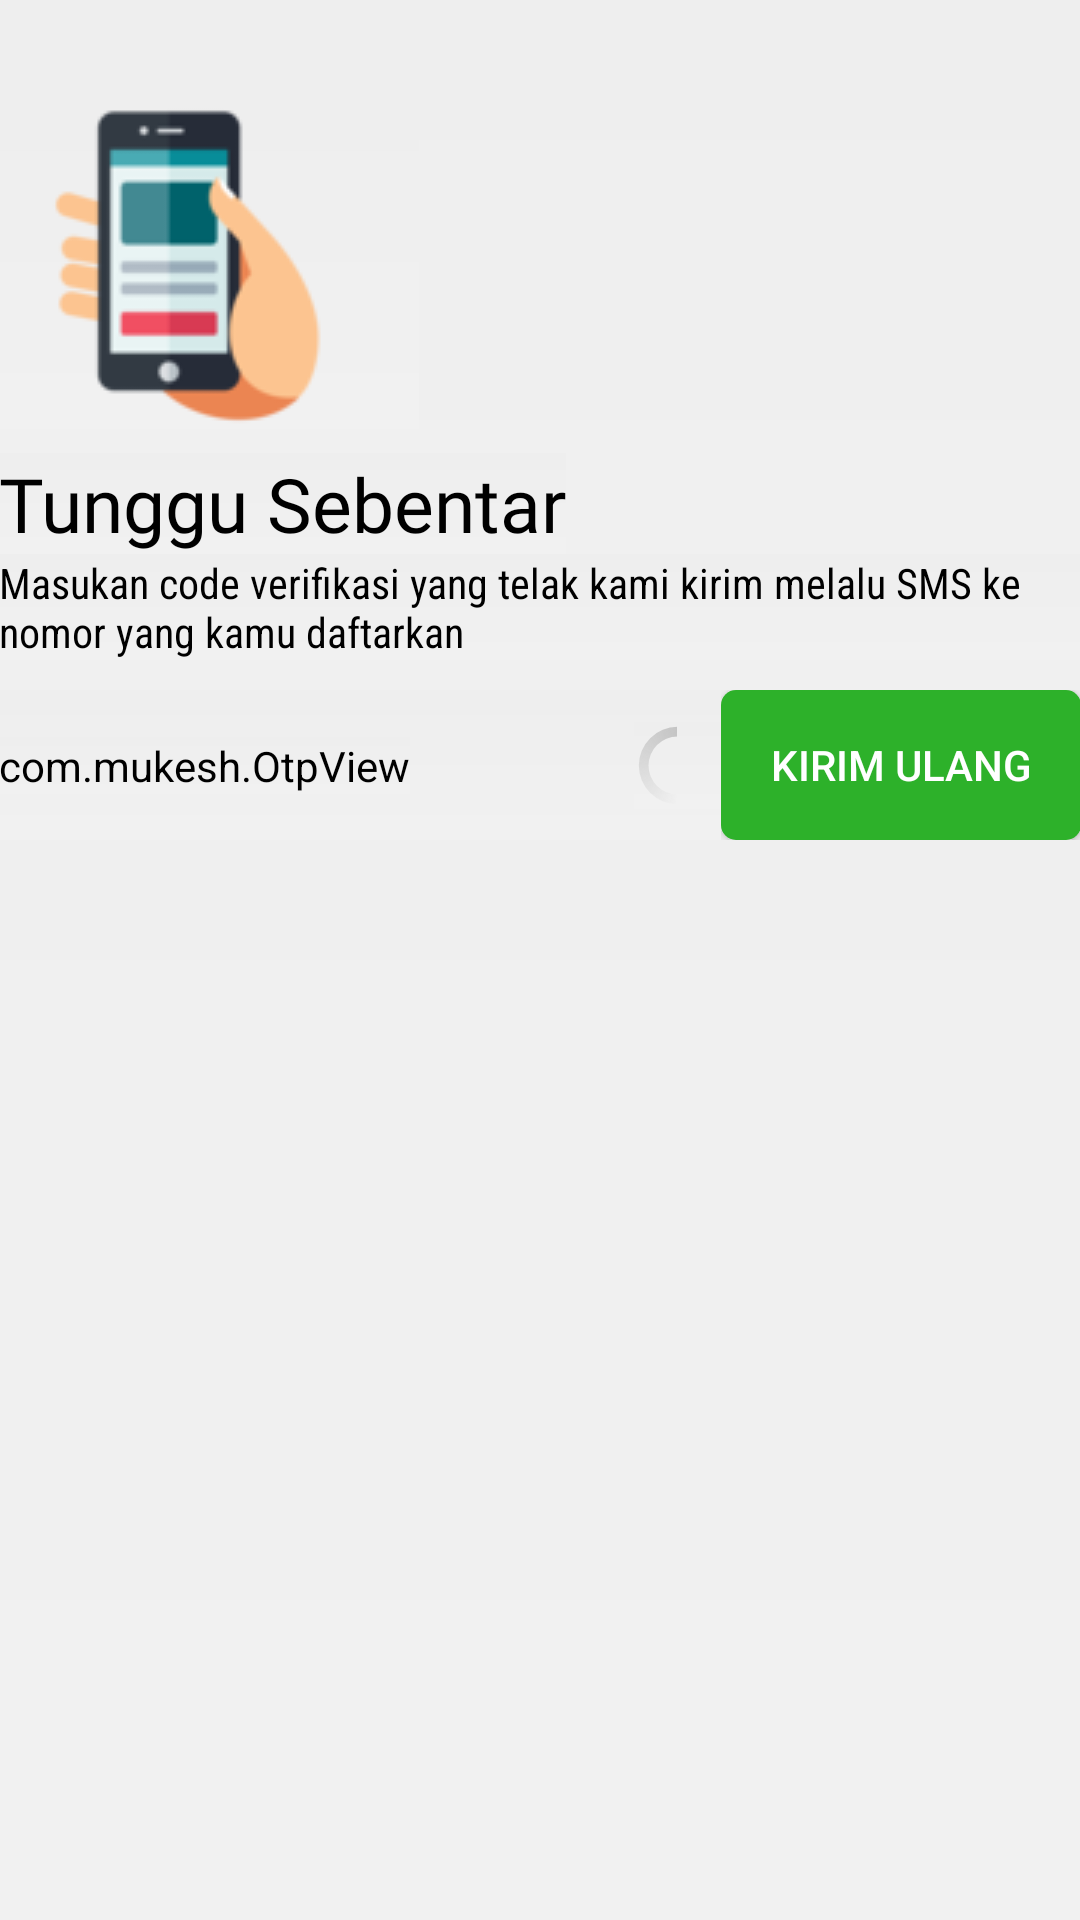

Icon bounding boxes for this 1080px x 1920px phone screenshot, format (x1, y1, x2, y2):
phone: (55, 110, 320, 421)
